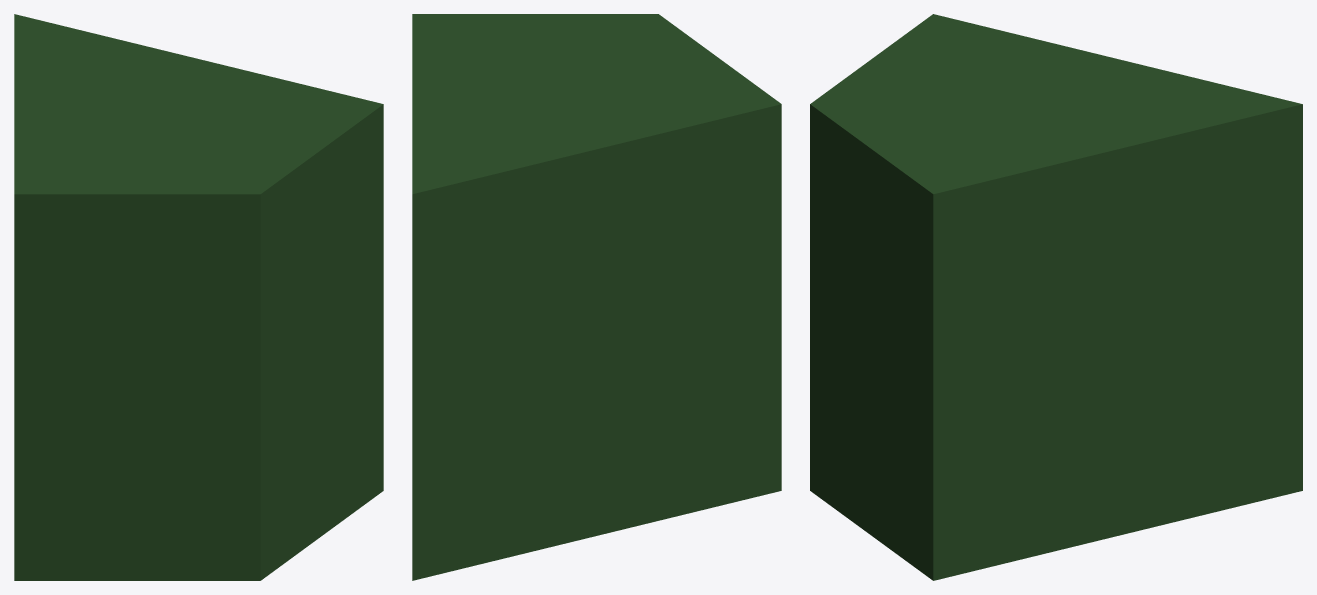
The model's file is face_air_forest-air_air-forest.glb.
3 renders of one model, left to right at view 1: azimuth 30°, elevation 25°; view 2: azimuth 150°, elevation 25°; view 3: azimuth 270°, elevation 25°, orthographic.
Parts seen in each view (by area): view 1: face_air_forest-air_air-forest; view 2: face_air_forest-air_air-forest; view 3: face_air_forest-air_air-forest.
Part boxes in pixels (x1,y1,x2,y2): face_air_forest-air_air-forest: [14, 14, 383, 580]; face_air_forest-air_air-forest: [412, 14, 781, 580]; face_air_forest-air_air-forest: [810, 14, 1302, 580].
Size of the model in its own units: 0.5001 by 0.5 by 0.5775.
